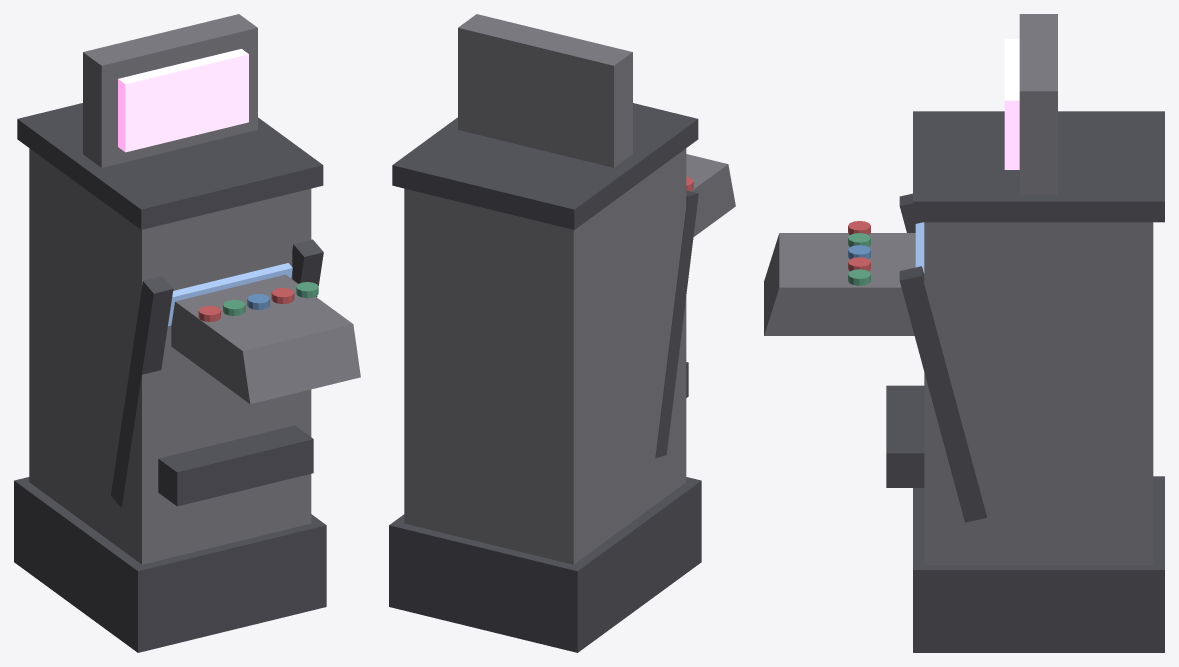
Rendered from casino-floor-and-back-rooms-video-poker-090da04b__27016.glb.
3 views of the same model, side by side, from view 1: azimuth 30°, elevation 25°; view 2: azimuth 150°, elevation 25°; view 3: azimuth 270°, elevation 25° (orthographic).
Parts seen in each view (by area): view 1: video-poker; view 2: video-poker; view 3: video-poker.
Boxes of the visible parts, bbox=[...] form: video-poker: bbox=[14, 14, 360, 652]; video-poker: bbox=[389, 14, 735, 652]; video-poker: bbox=[764, 14, 1164, 652].
Size of the model in its own units: 0.5799 by 1.6 by 1.05.
